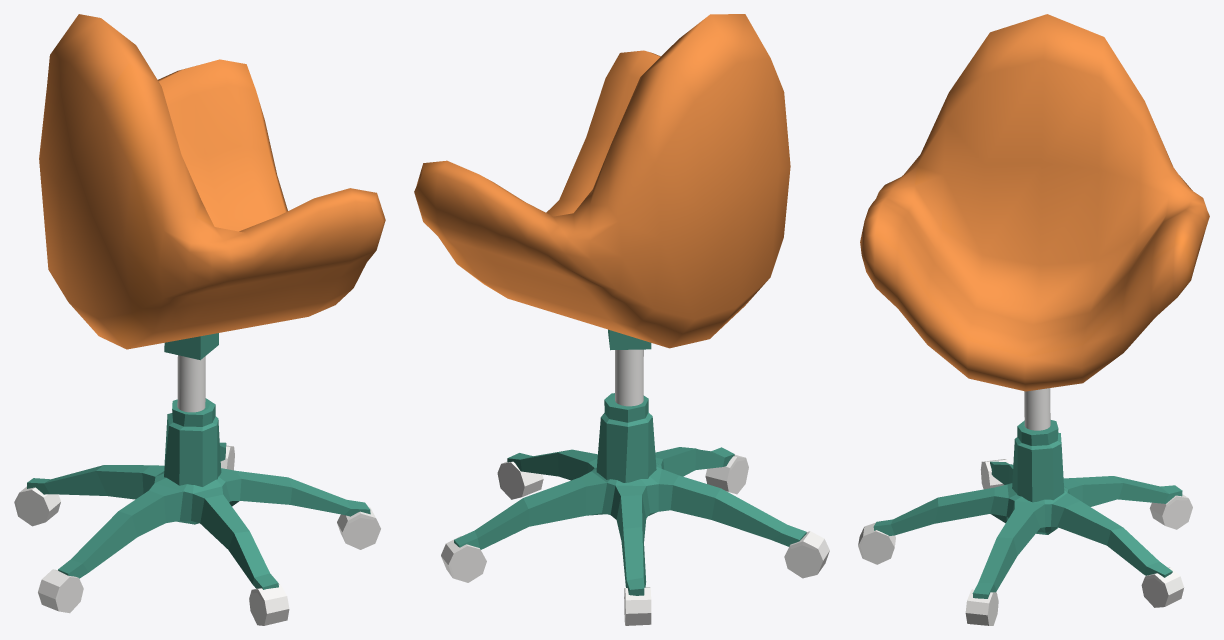
Rendered from Childroom2_Chair.fbx.
The picture shows the model from 3 angles, left to right: view 1: azimuth 30°, elevation 25°; view 2: azimuth 150°, elevation 25°; view 3: azimuth 270°, elevation 25°; orthographic projection. The views are drawn at different scales.
Visible parts, largest first — view 1: Childroom2_Chair; view 2: Childroom2_Chair; view 3: Childroom2_Chair.
Boxes of the visible parts, <box> form: Childroom2_Chair: <box>14,14,385,625</box>; Childroom2_Chair: <box>414,14,829,625</box>; Childroom2_Chair: <box>858,14,1209,625</box>.
Bounding box in the file's own units: 89.87 × 145 × 90.26.
